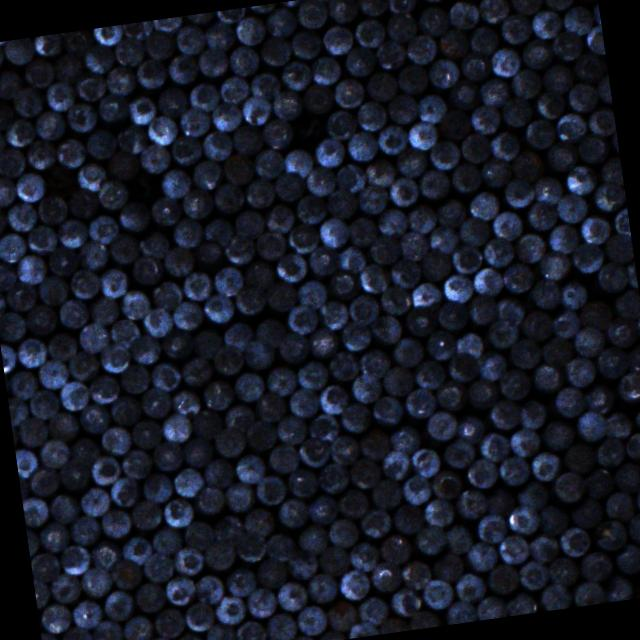tool: (510, 145, 550, 185), (252, 314, 290, 352), (323, 596, 360, 634), (178, 185, 216, 222), (576, 548, 616, 583), (233, 449, 270, 486), (242, 504, 280, 540), (200, 290, 238, 326), (411, 522, 451, 556), (221, 562, 258, 598), (253, 555, 290, 591), (96, 338, 133, 374), (464, 455, 500, 492), (540, 417, 577, 453), (530, 359, 566, 396), (518, 307, 554, 344), (502, 258, 538, 295), (435, 24, 472, 60), (225, 42, 261, 79), (10, 84, 47, 120), (96, 505, 134, 540), (118, 446, 156, 481), (560, 441, 598, 476), (592, 432, 627, 470), (538, 332, 576, 367), (275, 329, 310, 367), (219, 151, 257, 186), (38, 600, 74, 636), (108, 556, 144, 592), (346, 537, 382, 573), (570, 50, 606, 86), (182, 518, 218, 554), (266, 440, 302, 476), (46, 408, 82, 444), (200, 375, 236, 411), (12, 334, 48, 370), (356, 426, 392, 462), (497, 366, 533, 402), (380, 362, 416, 398), (294, 356, 330, 392), (358, 344, 394, 380), (390, 334, 426, 370), (338, 318, 374, 354), (326, 266, 362, 302), (242, 256, 278, 292), (458, 212, 494, 248), (169, 213, 205, 249), (458, 130, 494, 166), (145, 112, 181, 148), (332, 74, 368, 110), (364, 68, 400, 104), (24, 300, 60, 336), (116, 286, 152, 322), (36, 272, 72, 308), (130, 252, 166, 288), (106, 230, 142, 266), (136, 226, 172, 262), (33, 106, 69, 142), (94, 90, 130, 126), (44, 78, 80, 114), (104, 62, 140, 98), (171, 465, 208, 500), (210, 425, 247, 460), (377, 282, 414, 317), (262, 5, 299, 40), (567, 496, 605, 530), (526, 448, 564, 482), (576, 298, 614, 332), (500, 176, 538, 210), (302, 164, 340, 198), (342, 44, 380, 78), (294, 602, 329, 638), (302, 570, 338, 605), (430, 548, 466, 583), (389, 500, 425, 535), (592, 517, 628, 552), (222, 480, 258, 515), (138, 470, 174, 505), (180, 434, 216, 469), (67, 431, 103, 466), (191, 406, 227, 441), (138, 385, 174, 420), (263, 363, 299, 398), (118, 361, 154, 396), (180, 354, 216, 389), (211, 341, 246, 377), (242, 336, 278, 371), (160, 326, 196, 361), (368, 477, 404, 512), (572, 409, 608, 444), (306, 411, 342, 446), (595, 344, 630, 380), (349, 370, 384, 406), (507, 336, 542, 372), (490, 207, 525, 243), (524, 197, 560, 232), (564, 161, 600, 196), (544, 138, 580, 173), (211, 180, 247, 215), (395, 144, 430, 180), (554, 110, 590, 145), (468, 102, 504, 137), (137, 141, 173, 176), (169, 132, 204, 168), (385, 91, 420, 127), (270, 88, 305, 124), (404, 32, 440, 67), (498, 11, 534, 46), (528, 7, 564, 42), (257, 33, 293, 68), (116, 199, 152, 234), (97, 176, 132, 212), (84, 125, 119, 161), (74, 67, 109, 103), (200, 538, 237, 572), (38, 518, 72, 555), (274, 412, 311, 446), (481, 236, 518, 270), (253, 228, 290, 262), (318, 213, 352, 250), (229, 122, 266, 156), (116, 121, 150, 158), (554, 190, 592, 223), (337, 568, 372, 603), (128, 416, 163, 451), (15, 414, 50, 449), (108, 393, 143, 428), (233, 368, 268, 403), (5, 367, 40, 402), (191, 324, 226, 359), (316, 460, 351, 495), (441, 436, 476, 471), (298, 434, 333, 469), (452, 410, 487, 445), (487, 397, 522, 432), (552, 384, 587, 419), (465, 376, 500, 411), (445, 349, 480, 384), (605, 314, 640, 349), (547, 221, 582, 256), (282, 145, 317, 180), (478, 75, 513, 110), (5, 199, 40, 234), (65, 187, 100, 222), (100, 588, 136, 622), (77, 565, 113, 599), (140, 550, 176, 584), (170, 543, 206, 577), (556, 524, 592, 558), (316, 542, 350, 578), (356, 506, 392, 540), (483, 482, 517, 518), (150, 522, 184, 558), (160, 496, 196, 530), (254, 472, 288, 508), (284, 466, 320, 500), (45, 490, 81, 524), (108, 474, 144, 508), (202, 454, 236, 490), (88, 453, 124, 487), (160, 409, 194, 445), (78, 400, 114, 434), (34, 358, 70, 392), (64, 348, 100, 382), (106, 316, 142, 350), (336, 486, 372, 520), (348, 456, 382, 492), (378, 446, 412, 482), (316, 382, 352, 416), (326, 348, 362, 382), (423, 328, 459, 362), (485, 316, 521, 350), (304, 325, 340, 359), (404, 302, 438, 338), (434, 298, 470, 332), (471, 264, 505, 300), (536, 248, 572, 282), (570, 240, 606, 274), (388, 254, 422, 290), (448, 242, 484, 276), (578, 212, 614, 246), (274, 250, 310, 284), (162, 242, 196, 278), (222, 232, 258, 266), (376, 203, 410, 239), (488, 128, 524, 162), (201, 128, 235, 164), (414, 90, 450, 124), (396, 60, 430, 96), (457, 49, 493, 83), (488, 44, 524, 78), (186, 80, 222, 114), (468, 20, 502, 56), (288, 27, 324, 61), (319, 22, 355, 56), (85, 292, 121, 326), (67, 266, 101, 302), (86, 210, 120, 246), (106, 148, 142, 182), (150, 606, 187, 639), (132, 579, 169, 612), (528, 276, 561, 313), (532, 88, 569, 121), (421, 576, 456, 610), (453, 570, 488, 604), (378, 532, 412, 567), (505, 502, 540, 536), (276, 496, 310, 531), (27, 464, 62, 498), (56, 458, 91, 492), (244, 417, 278, 452), (43, 330, 78, 364), (477, 429, 511, 464), (507, 426, 542, 460), (388, 420, 422, 455), (423, 409, 458, 443), (370, 394, 405, 428), (434, 378, 468, 413), (285, 301, 320, 335), (316, 296, 350, 331), (418, 248, 453, 282), (449, 160, 484, 194), (148, 192, 182, 227), (522, 116, 557, 150), (158, 166, 193, 200), (437, 108, 472, 142), (324, 108, 359, 142), (448, 76, 482, 111), (178, 104, 212, 139), (165, 51, 199, 86), (142, 28, 177, 62), (202, 18, 236, 53), (150, 277, 184, 312), (4, 280, 39, 314), (77, 238, 111, 273), (464, 540, 500, 573), (476, 348, 512, 381), (346, 292, 382, 325), (264, 279, 300, 312), (368, 230, 401, 266), (347, 212, 380, 248), (406, 119, 442, 152), (354, 99, 390, 132), (540, 60, 576, 93), (247, 69, 283, 102), (75, 158, 108, 194), (193, 46, 230, 78), (182, 598, 216, 632), (70, 596, 104, 630), (234, 530, 268, 564), (486, 562, 520, 596), (474, 512, 508, 546), (536, 502, 570, 536), (601, 232, 635, 266), (576, 131, 610, 165), (58, 543, 92, 577), (130, 497, 164, 531), (77, 484, 111, 518), (88, 372, 122, 406), (76, 321, 110, 355), (170, 298, 204, 332), (306, 492, 340, 526), (408, 444, 442, 478), (572, 324, 606, 358), (369, 314, 403, 348), (594, 260, 628, 294), (211, 264, 245, 298), (467, 188, 501, 222), (294, 192, 328, 226), (388, 174, 422, 208), (418, 167, 452, 201), (480, 155, 514, 189), (428, 138, 462, 172), (190, 158, 224, 192), (302, 81, 336, 115), (427, 56, 461, 90), (522, 36, 556, 70), (154, 84, 188, 118), (278, 58, 312, 92), (134, 56, 168, 90), (384, 10, 418, 44), (15, 252, 49, 286), (25, 138, 59, 172), (66, 100, 100, 134), (22, 55, 56, 89), (51, 50, 85, 84), (82, 41, 116, 75), (582, 466, 615, 501), (119, 533, 154, 566), (28, 387, 63, 420), (287, 385, 320, 420), (306, 243, 339, 278), (325, 186, 360, 219), (351, 16, 386, 49), (212, 594, 248, 626), (356, 593, 392, 625), (388, 586, 424, 618), (88, 538, 124, 570), (338, 402, 374, 434), (260, 202, 296, 234), (48, 570, 82, 603), (275, 579, 308, 613), (398, 557, 432, 590), (286, 548, 320, 581), (443, 520, 476, 554), (264, 529, 298, 562), (326, 517, 360, 550), (552, 470, 586, 503), (551, 29, 585, 62), (38, 436, 72, 469), (224, 401, 258, 434), (168, 385, 202, 418), (222, 319, 256, 352), (429, 468, 463, 501), (328, 432, 361, 466), (404, 386, 438, 419), (563, 355, 597, 388), (412, 358, 446, 391), (494, 293, 528, 326), (440, 271, 474, 304), (296, 277, 330, 310), (514, 231, 547, 265), (180, 268, 213, 302), (287, 221, 321, 254), (201, 215, 235, 248), (364, 154, 397, 188), (501, 94, 534, 128), (262, 116, 295, 150), (509, 67, 543, 100), (210, 100, 243, 134), (240, 94, 273, 128), (125, 92, 158, 126), (218, 73, 252, 106), (374, 39, 408, 72), (416, 5, 450, 38), (172, 23, 206, 56), (56, 297, 90, 330), (26, 223, 60, 256), (56, 216, 90, 249), (3, 115, 37, 148), (369, 560, 404, 592), (453, 487, 488, 519), (150, 357, 182, 392), (130, 332, 162, 367), (233, 284, 268, 316), (307, 54, 342, 86), (295, 522, 328, 555), (150, 439, 183, 472), (434, 195, 467, 228), (232, 207, 265, 240), (113, 35, 146, 68), (244, 586, 278, 618), (516, 558, 550, 590), (496, 533, 530, 565), (516, 478, 550, 510), (602, 489, 636, 521), (592, 180, 626, 212), (585, 104, 617, 138), (559, 4, 593, 36), (68, 514, 102, 546), (194, 482, 226, 516), (254, 390, 288, 422), (58, 378, 90, 412), (140, 306, 174, 338), (582, 382, 614, 416), (549, 306, 581, 340), (466, 292, 498, 326), (558, 276, 590, 310), (192, 239, 226, 271), (406, 200, 438, 234), (272, 170, 306, 202), (314, 136, 346, 170), (232, 14, 266, 46), (98, 265, 130, 299), (46, 244, 80, 276), (570, 578, 606, 608), (193, 572, 226, 604), (29, 550, 62, 582), (213, 512, 246, 544), (99, 424, 132, 456), (358, 262, 391, 294), (358, 182, 390, 215), (244, 176, 276, 209), (336, 160, 368, 193), (252, 147, 284, 180), (376, 123, 408, 156), (36, 194, 69, 226), (14, 170, 46, 203), (548, 554, 579, 588), (454, 328, 485, 362), (398, 229, 429, 263), (428, 223, 462, 254), (295, 0, 330, 30), (0, 229, 29, 265), (528, 531, 560, 563), (566, 80, 598, 112), (401, 474, 433, 506), (498, 454, 530, 486), (603, 408, 635, 440), (346, 130, 378, 162), (56, 136, 88, 168), (264, 610, 298, 640), (422, 496, 456, 526), (446, 0, 480, 30), (611, 540, 640, 575), (0, 310, 29, 345), (119, 612, 155, 640), (503, 589, 539, 617), (164, 574, 196, 605), (540, 581, 572, 612), (602, 572, 634, 603), (410, 280, 442, 311), (337, 242, 368, 274), (532, 173, 564, 204), (518, 396, 548, 429), (443, 598, 478, 626), (612, 459, 640, 493), (612, 286, 640, 320), (22, 494, 50, 528), (3, 37, 37, 65), (0, 144, 27, 179), (60, 29, 94, 56), (325, 0, 360, 26), (478, 0, 514, 25), (234, 616, 269, 640), (476, 593, 506, 621), (616, 370, 640, 405), (599, 154, 624, 187), (0, 66, 24, 100), (33, 33, 64, 59), (375, 614, 411, 636), (15, 446, 39, 478), (408, 608, 442, 630), (120, 20, 154, 42), (91, 617, 123, 640), (584, 24, 606, 55), (8, 395, 30, 426), (94, 24, 125, 46), (346, 619, 380, 639), (612, 207, 632, 240), (204, 621, 238, 640), (33, 574, 52, 608), (150, 16, 182, 36), (0, 174, 18, 209), (509, 0, 545, 17), (623, 341, 640, 376), (0, 258, 18, 291), (623, 429, 640, 463), (58, 624, 94, 640), (594, 74, 612, 106), (358, 0, 390, 18), (0, 342, 17, 374), (625, 510, 640, 546), (183, 12, 216, 28), (215, 8, 247, 24), (26, 526, 42, 557), (0, 98, 14, 133), (385, 0, 417, 14), (540, 0, 576, 11), (171, 629, 206, 640), (631, 400, 640, 434), (632, 482, 640, 517), (0, 204, 8, 238), (0, 286, 8, 319), (0, 124, 7, 160), (41, 631, 62, 640)
tool_b: (290, 111, 328, 148), (124, 169, 160, 208), (41, 164, 79, 200)
